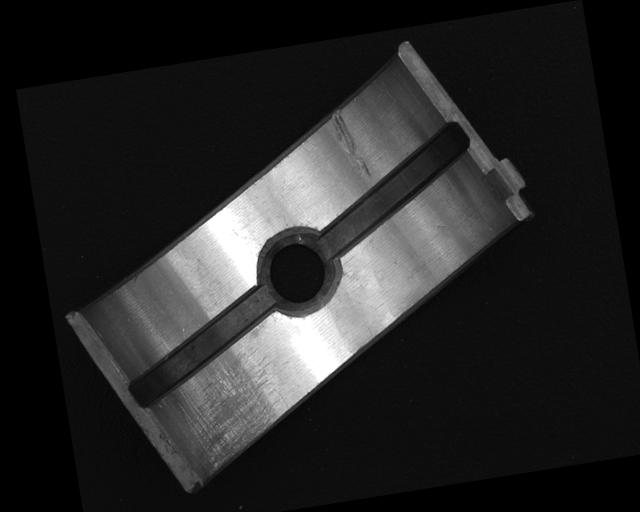gap: (307, 119, 482, 260), (114, 284, 288, 409)
hole: (254, 226, 341, 322)
nick: (327, 104, 374, 183)
scratch: (168, 343, 293, 472)
